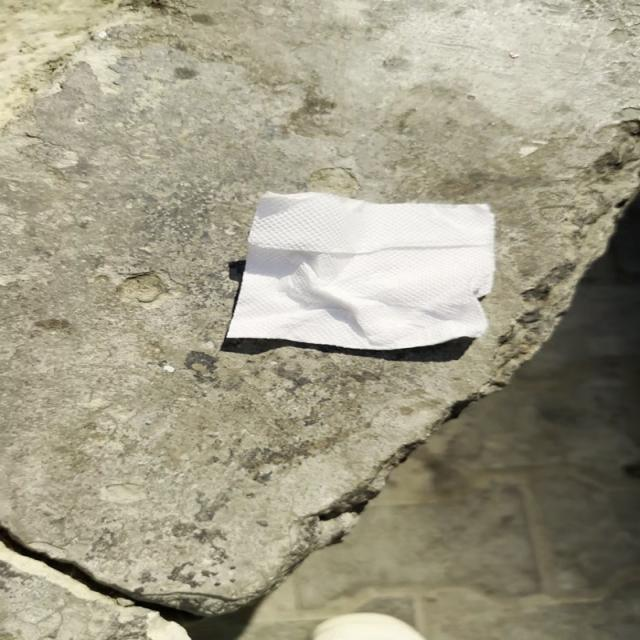tissue: (224, 194, 510, 354)
